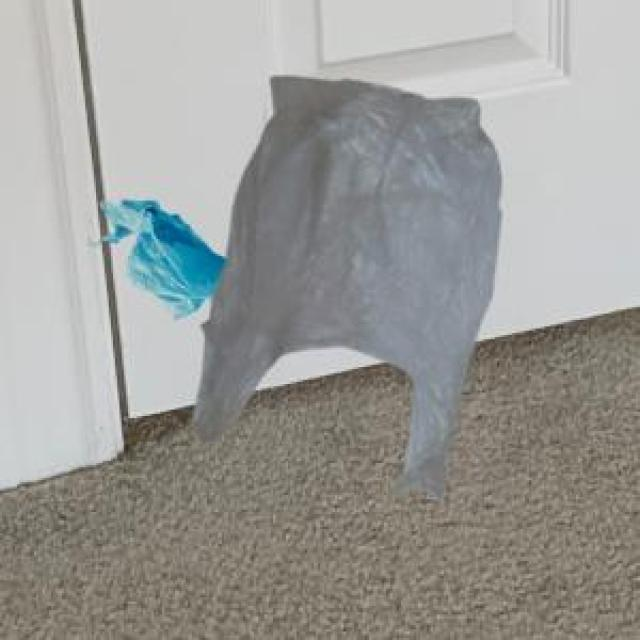waste: (182, 81, 477, 504), (268, 84, 501, 495)
